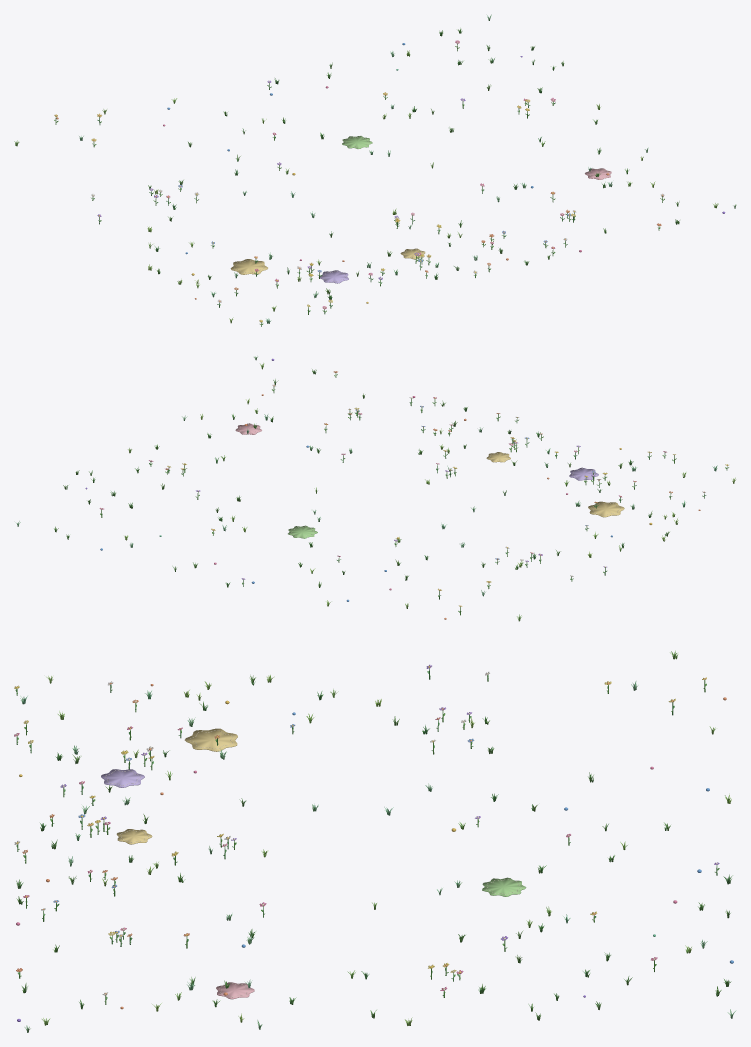
File: W4_Flora.fbx
3 renders of one model, top to bottom at view 1: azimuth 30°, elevation 25°; view 2: azimuth 150°, elevation 25°; view 3: azimuth 270°, elevation 25°, orthographic. The views are drawn at different scales.
Parts seen in each view (by area): view 1: W4_Flora; view 2: W4_Flora; view 3: W4_Flora.
Part boxes in pixels (x1,y1,x2,y2): W4_Flora: [14, 14, 736, 326]; W4_Flora: [15, 356, 735, 621]; W4_Flora: [14, 650, 736, 1032].
Bounding box in the file's own units: 7.57 × 0.4846 × 6.45.
